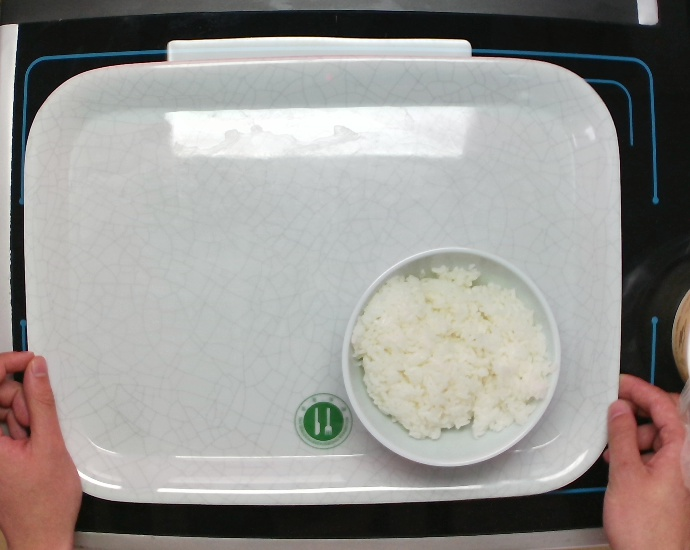JYsf-Fan_Wan: (339, 244, 562, 468)
